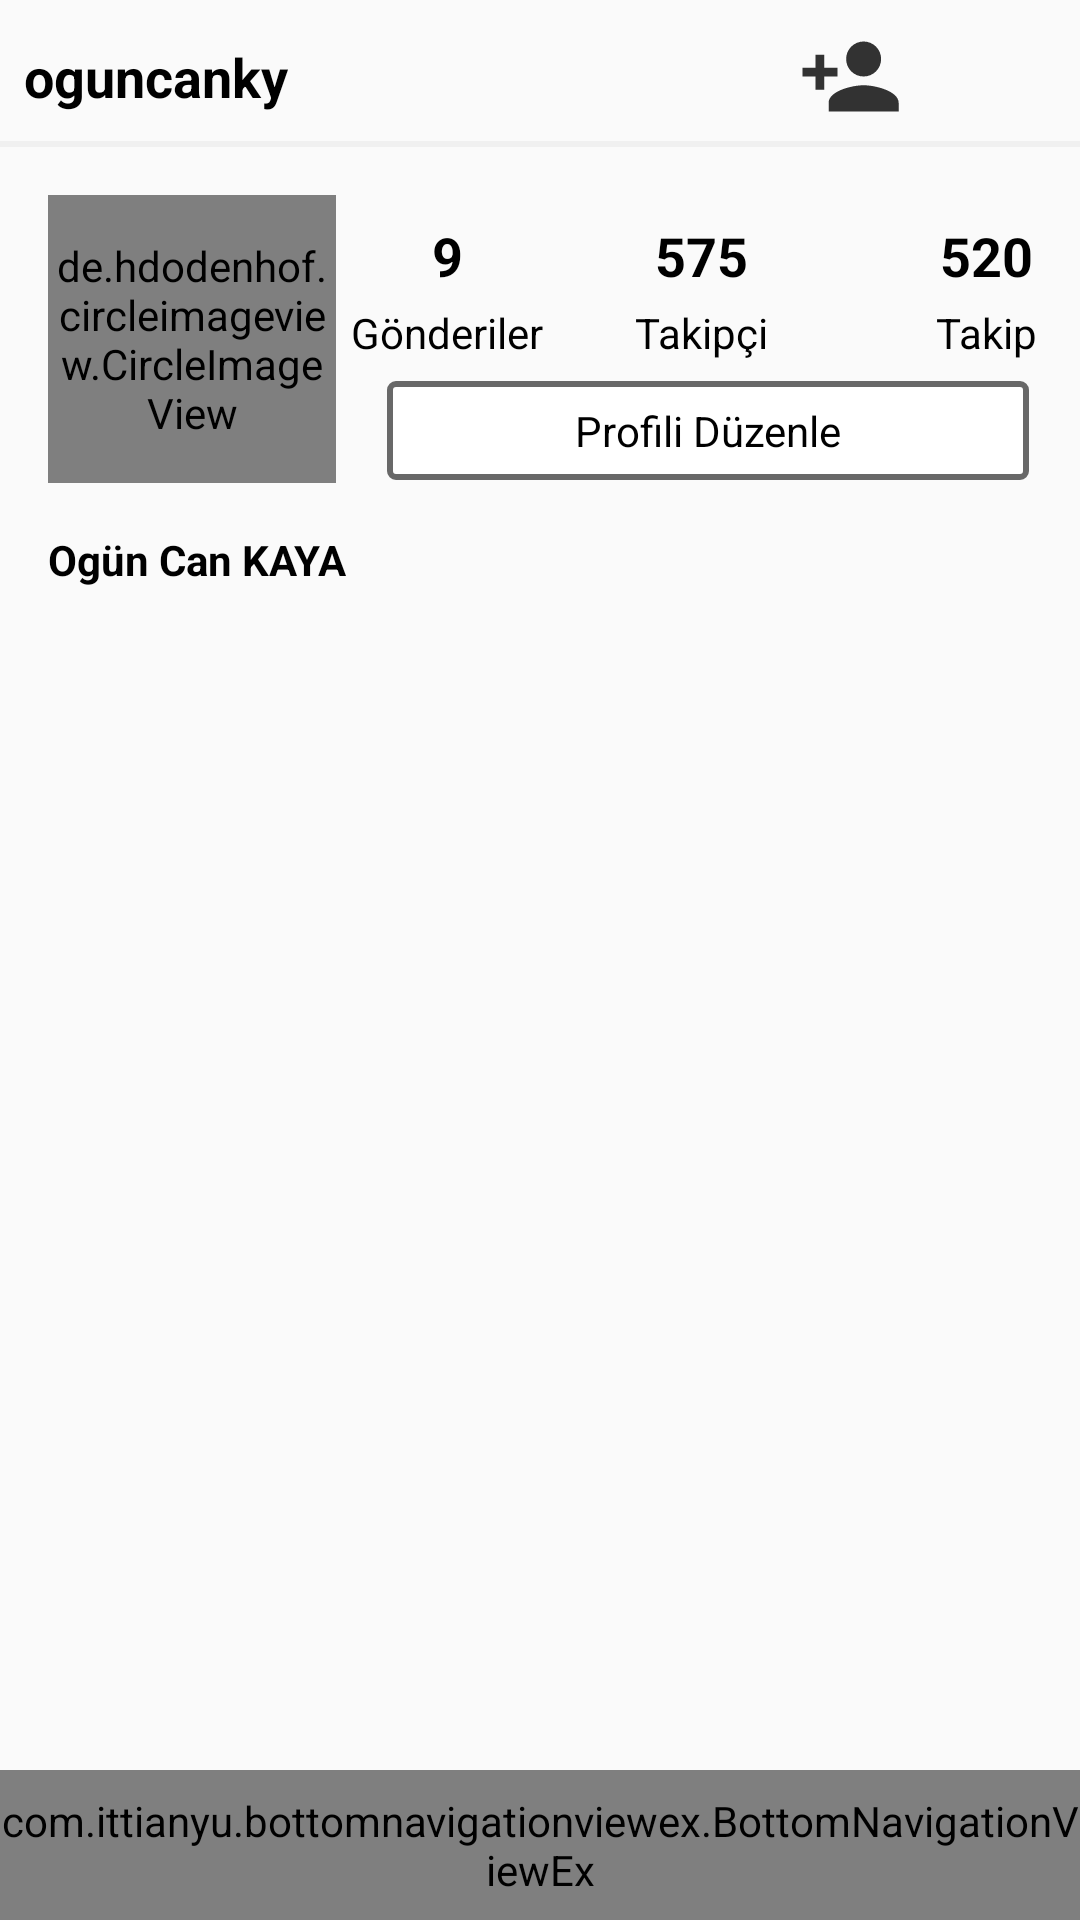

Icon bounding boxes for this 1080px x 1920px phone screenshot, format (x1,y1,x2,y2):
discover people: (802,41,899,112)
